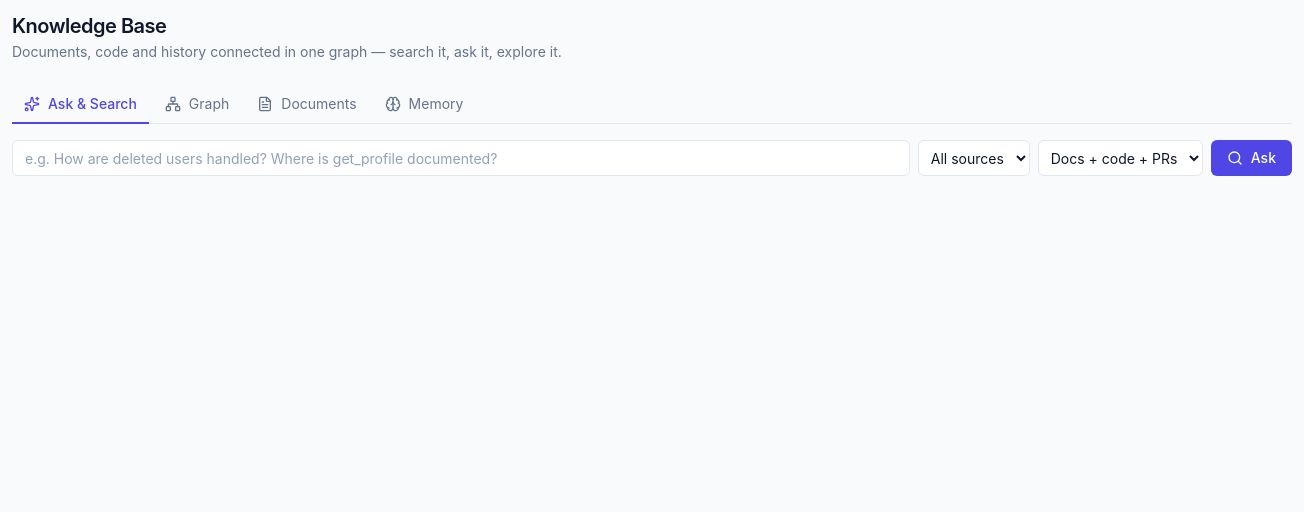
Scenario: Knowledge page › labels answers served from memory and can ask the model again
Type "How are deleted users handled?" into the field named "Question" at (461, 158), box x1=12 y1=140 x2=910 y2=176
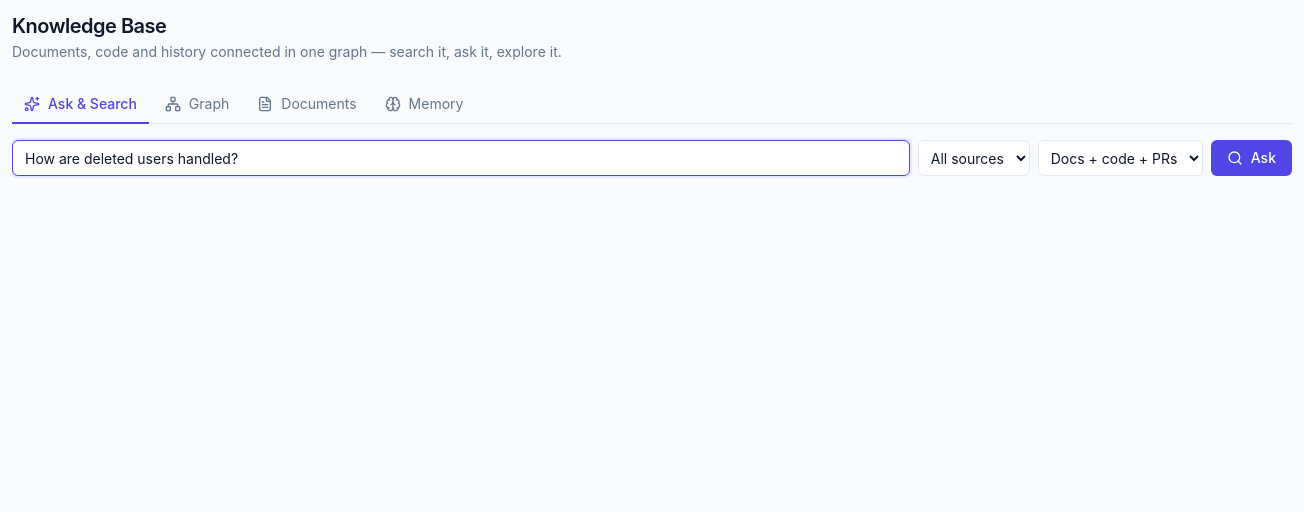
Click the button "Ask" at (1251, 158), box x1=1211 y1=140 x2=1292 y2=176
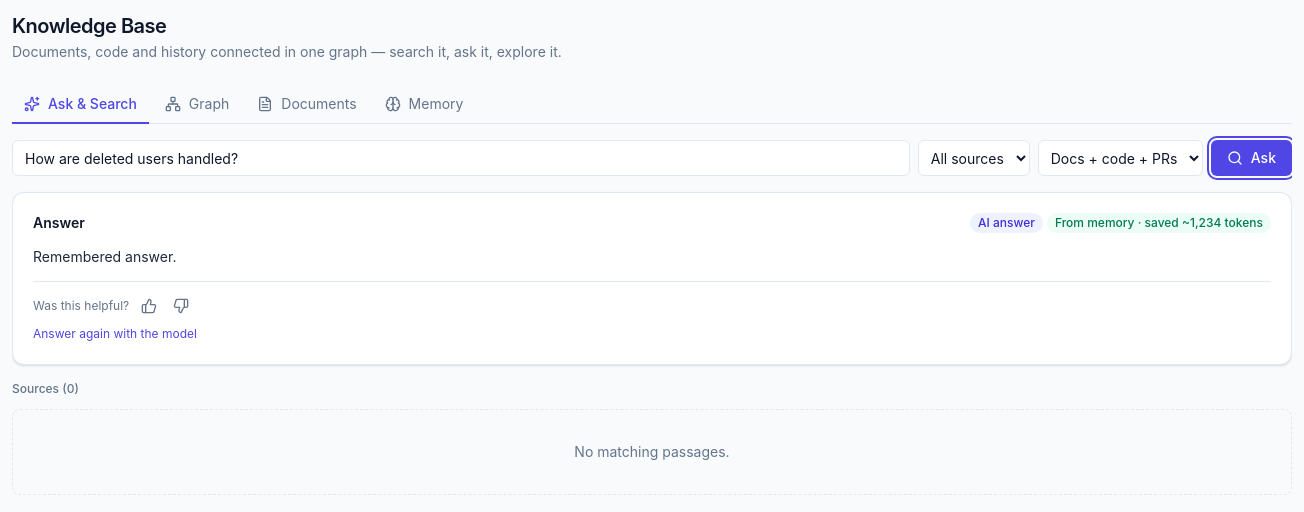
Expected: the text "From memory · saved ~1,234 tokens" is shown, x1=1047 y1=213 x2=1271 y2=233
Click the button "Answer again with the model" at (115, 334), box x1=33 y1=326 x2=197 y2=342
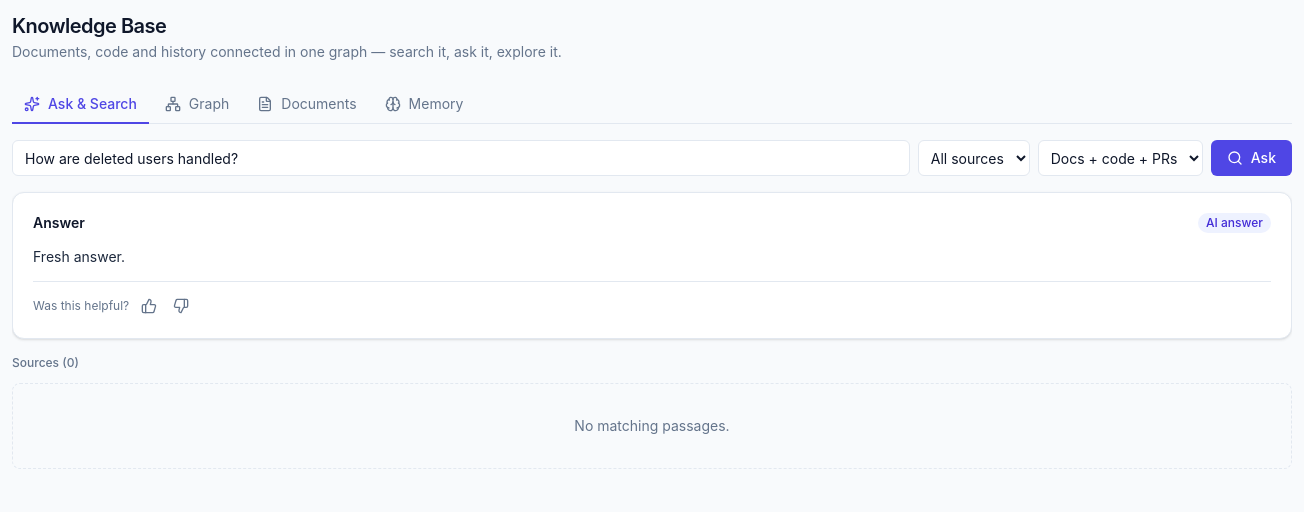
Expected: the text "Fresh answer." is shown, x1=33 y1=248 x2=125 y2=265
Expected: the text "From memory" is gone
